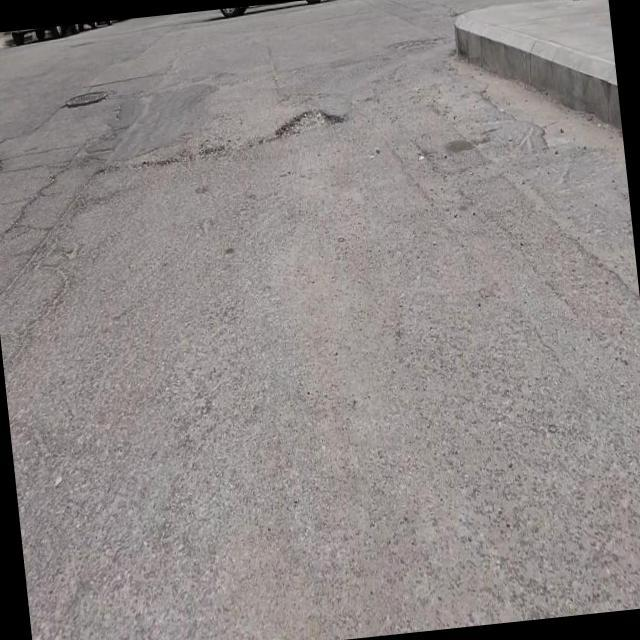Pothole: (276, 104, 344, 140)
